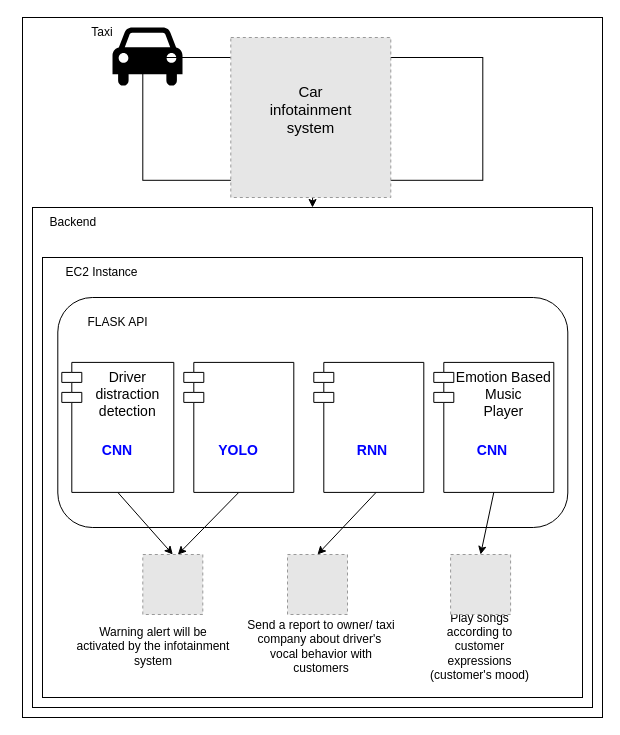
The diagram is 620 pixels wide and 735 high, and some of its shapes have lost their labels. Grey dashed boxes stand in for pictures. Here are the shapes that lost their labels. From the top down, the box of each, then its label:
(183, 361, 294, 492): Forgotten Parcel Detection
(313, 361, 424, 492): Driver Voice emotion detection
